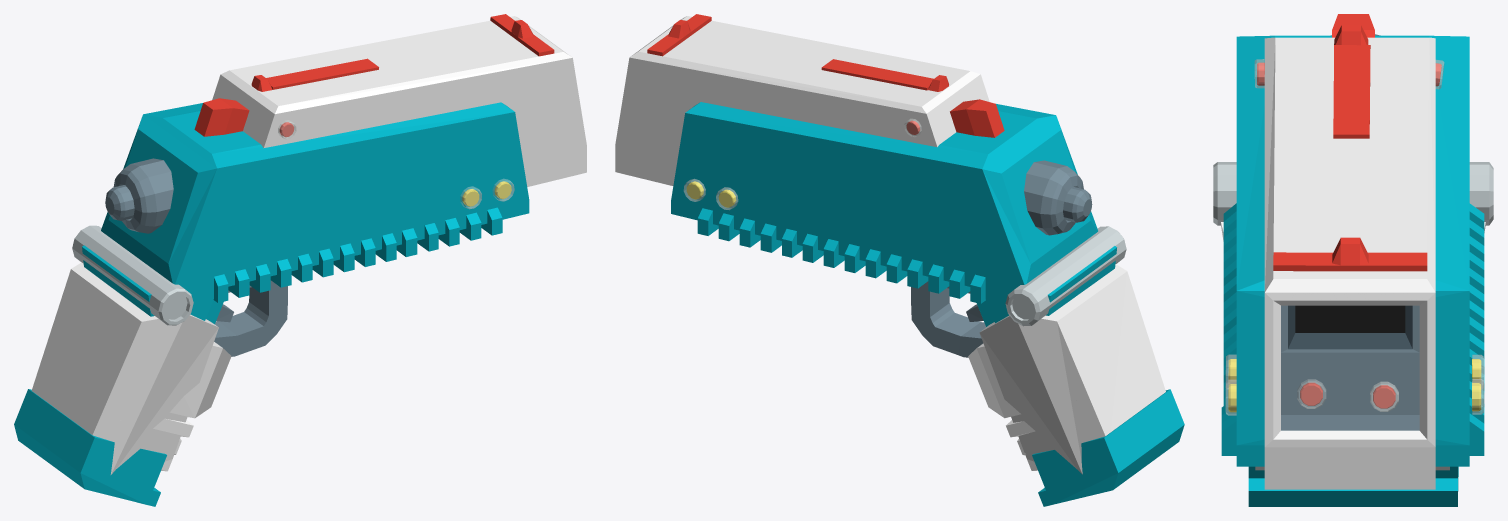
The model's file is E_gun.glb.
3 views of the same model, side by side, from view 1: azimuth 30°, elevation 25°; view 2: azimuth 150°, elevation 25°; view 3: azimuth 270°, elevation 25° (orthographic). The views are drawn at different scales.
Parts seen in each view (by area): view 1: Node; view 2: Node; view 3: Node.
Boxes of the visible parts, x1,y1,x2,y2 form: Node: [14, 14, 586, 506]; Node: [615, 14, 1184, 506]; Node: [1213, 14, 1493, 506].
Size of the model in its own units: 4.35 by 3.02 by 1.31.
